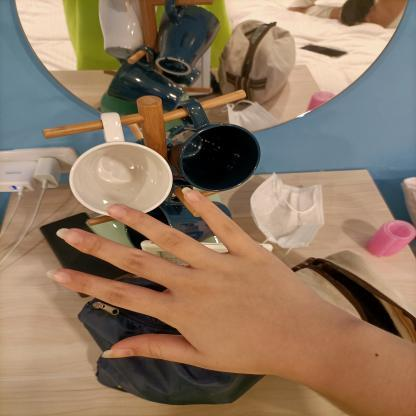bare_hand: (40, 180, 356, 411)
